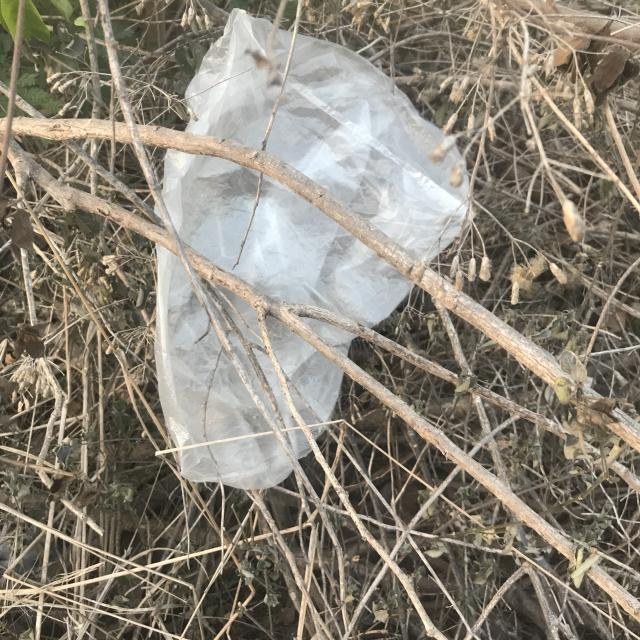Single-layer Plastic: (149, 9, 476, 488)
